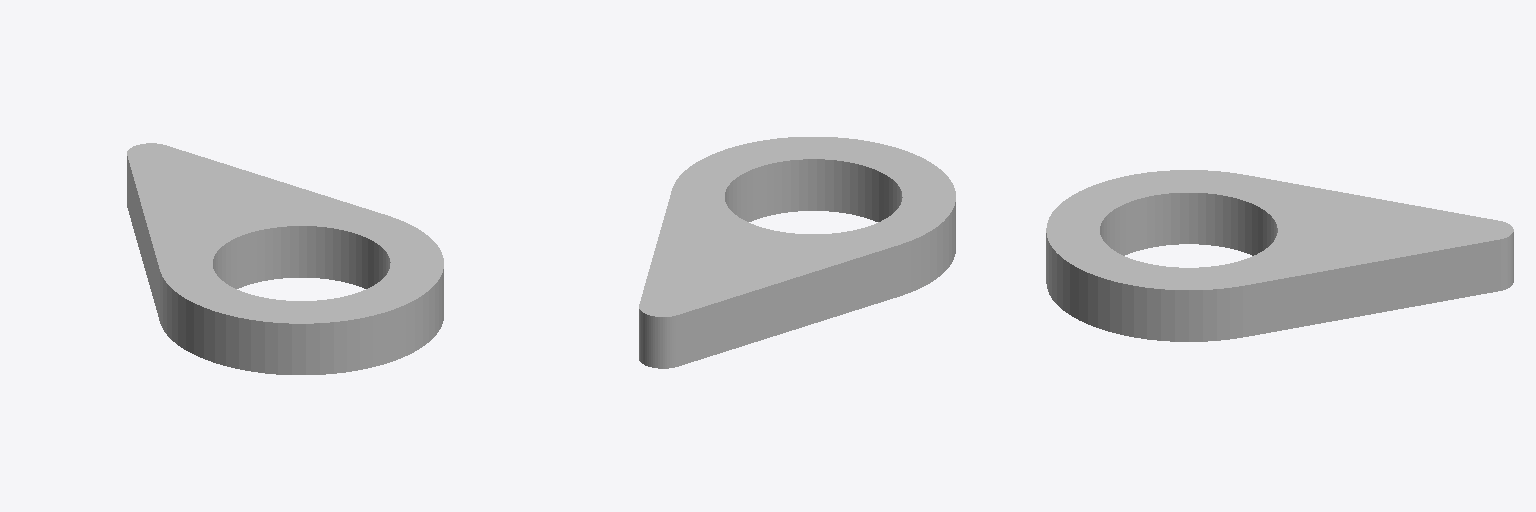
The model's file is map_marker.obj.
The picture shows the model from 3 angles: view 1: azimuth 30°, elevation 25°; view 2: azimuth 150°, elevation 25°; view 3: azimuth 270°, elevation 25°; orthographic projection.
Visible parts, largest first — view 1: Cylinder; view 2: Cylinder; view 3: Cylinder.
Boxes of the visible parts, <box> form: Cylinder: <box>127,143,443,374</box>; Cylinder: <box>639,137,955,368</box>; Cylinder: <box>1046,170,1513,341</box>.
Bounding box in the file's own units: 2 × 0.4 × 3.28.